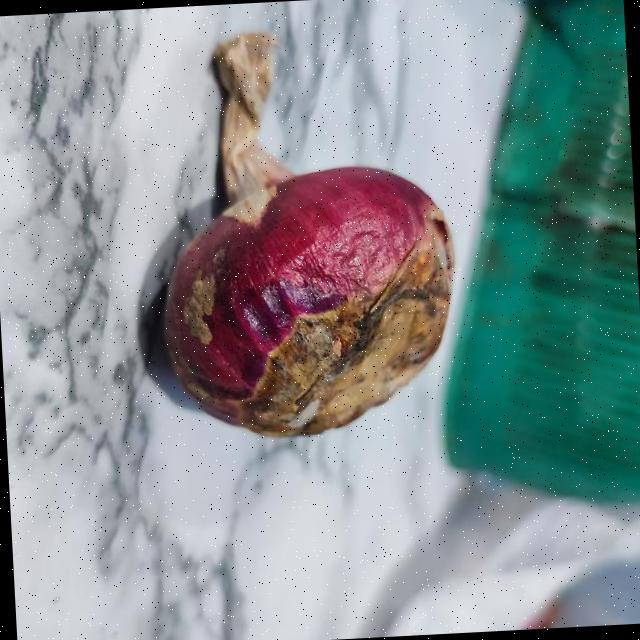Onion: (163, 34, 451, 438)
